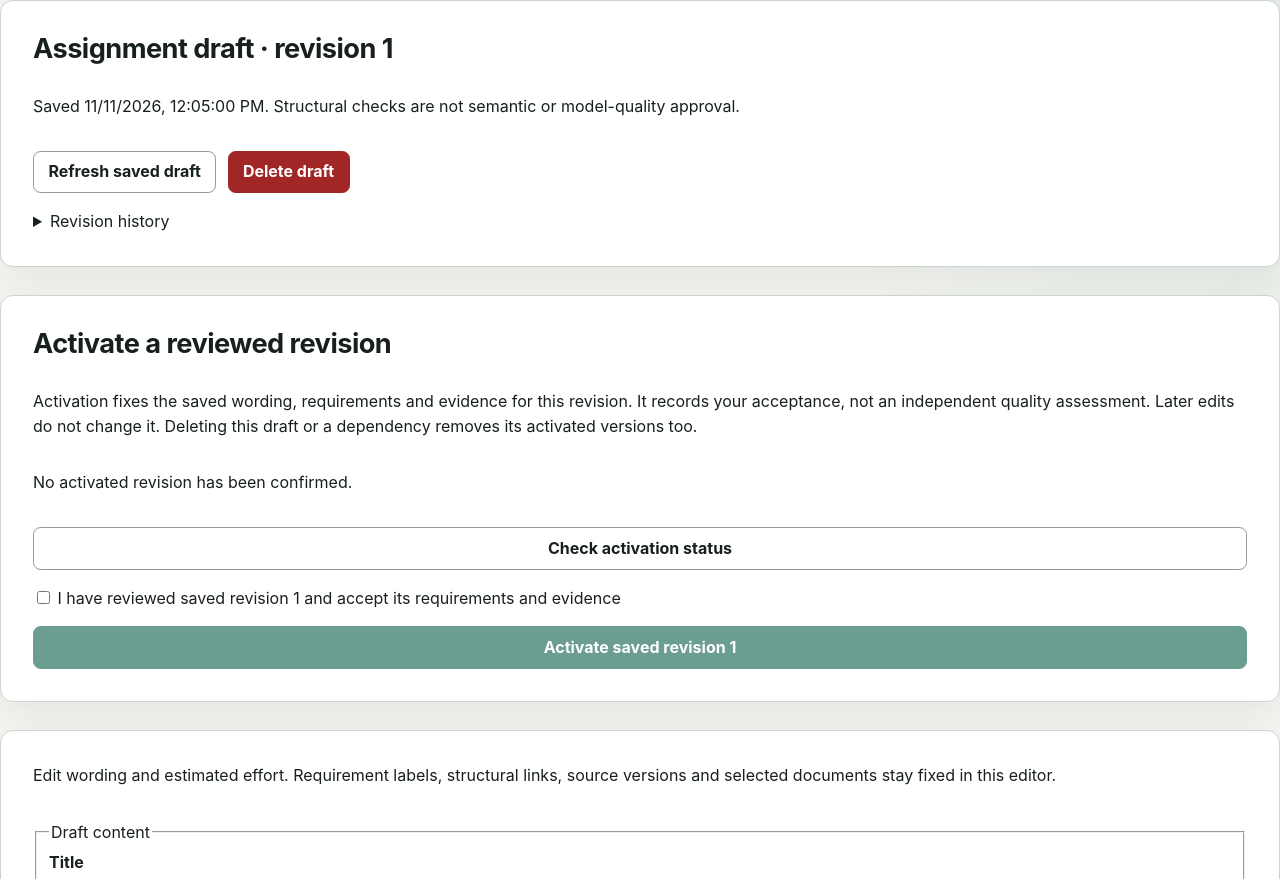
Test case: explicit reviewed assignment activation › keeps the draft after a stale-head conflict and requires a new review
Click the checkbox labelled "I have reviewed saved revision".
click(44, 597)  # box [37,590,50,604]
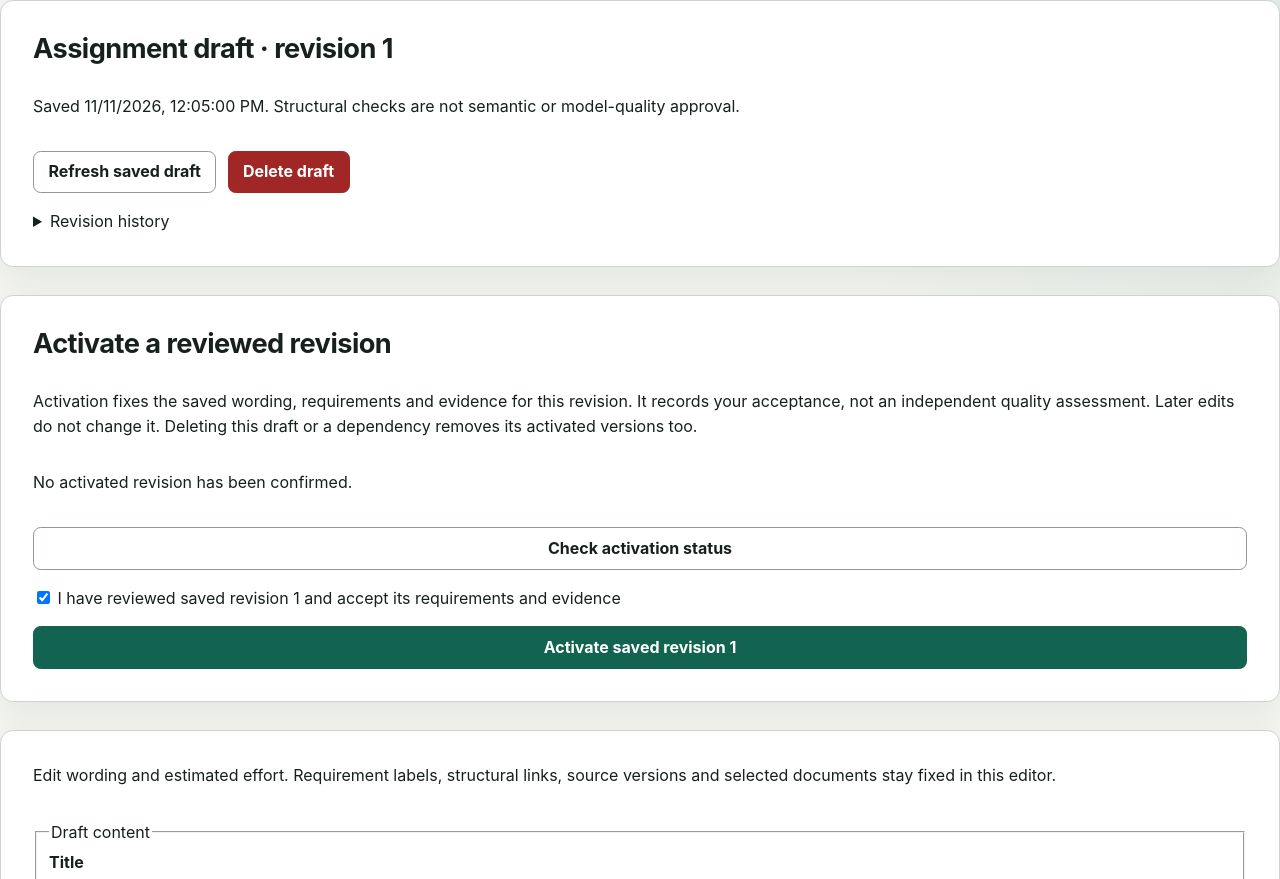
Click the button "Activate saved revision 1".
click(640, 648)  # box [33,626,1247,669]
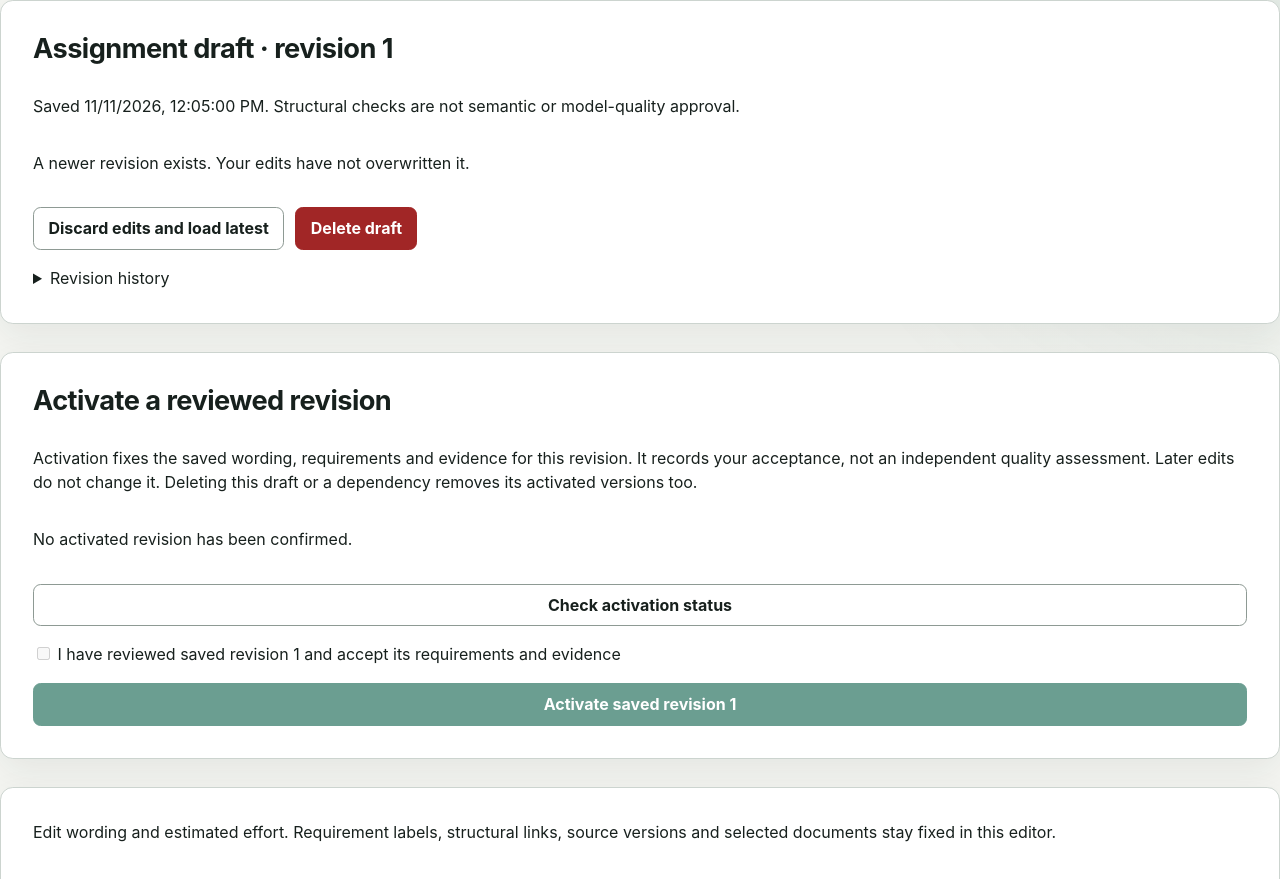
expect the checkbox labelled "I have reviewed saved revision" is not checked: met, box [37,647,50,660]
expect the text "A newer revision exists. Your edits have not overwritten it." is shown: met, box [33,153,470,173]
